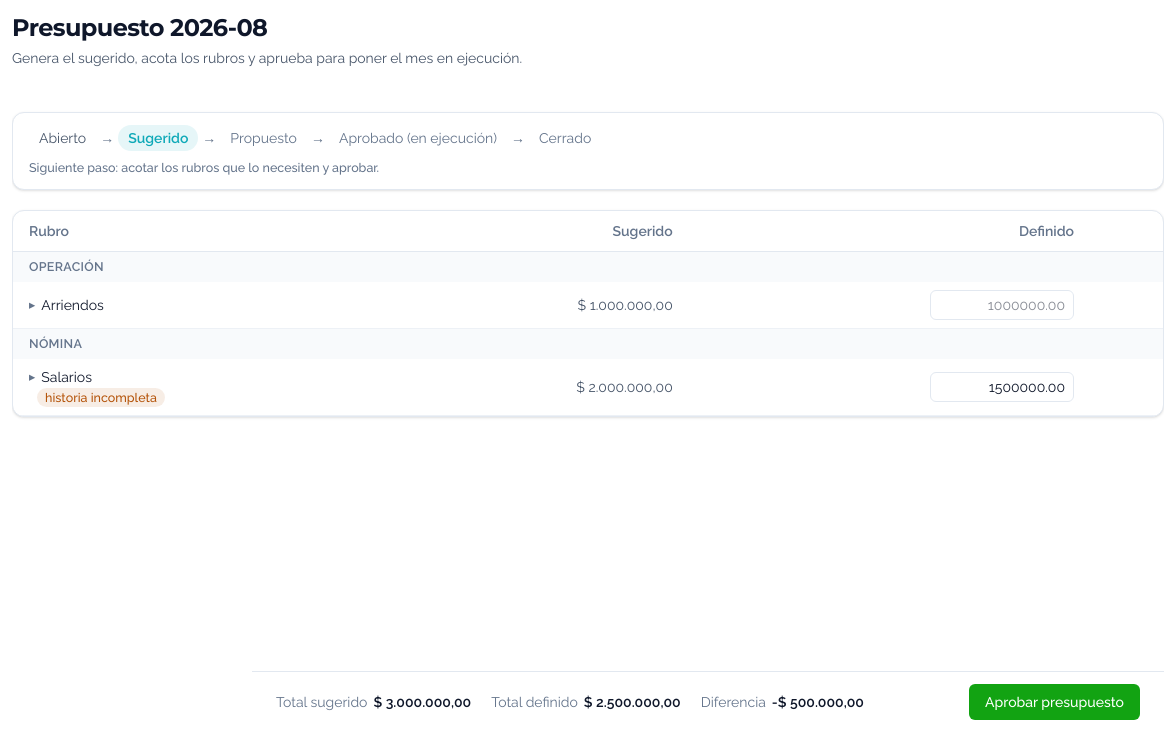
Test: PresupuestoMesPage — acotar (§5.3) › guarda el monto como string, refresca del backend y 'Guardar' se oculta (QA C2)
The width and height of the screenshot is (1164, 732).
Type "1200000" into the field named "Definido Arriendos". click: x=1002, y=305
box: [930,290,1074,320]
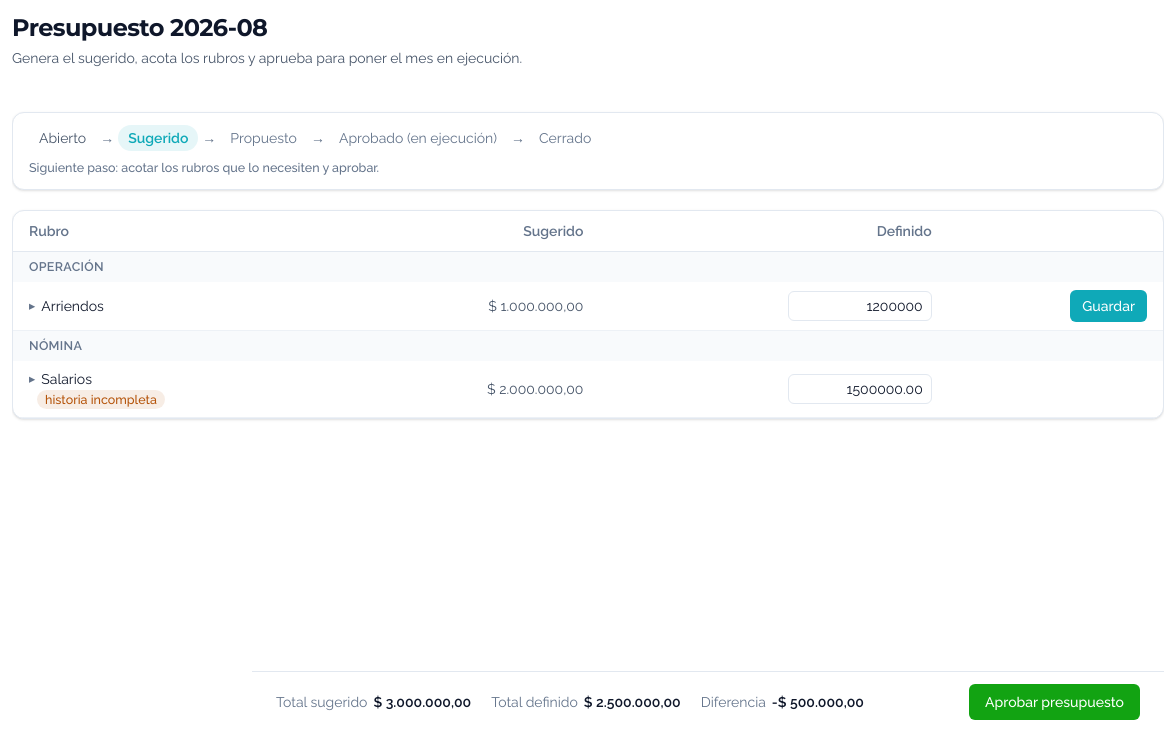
Click the button "Guardar". click: x=1109, y=306
box: [1070,290,1147,322]
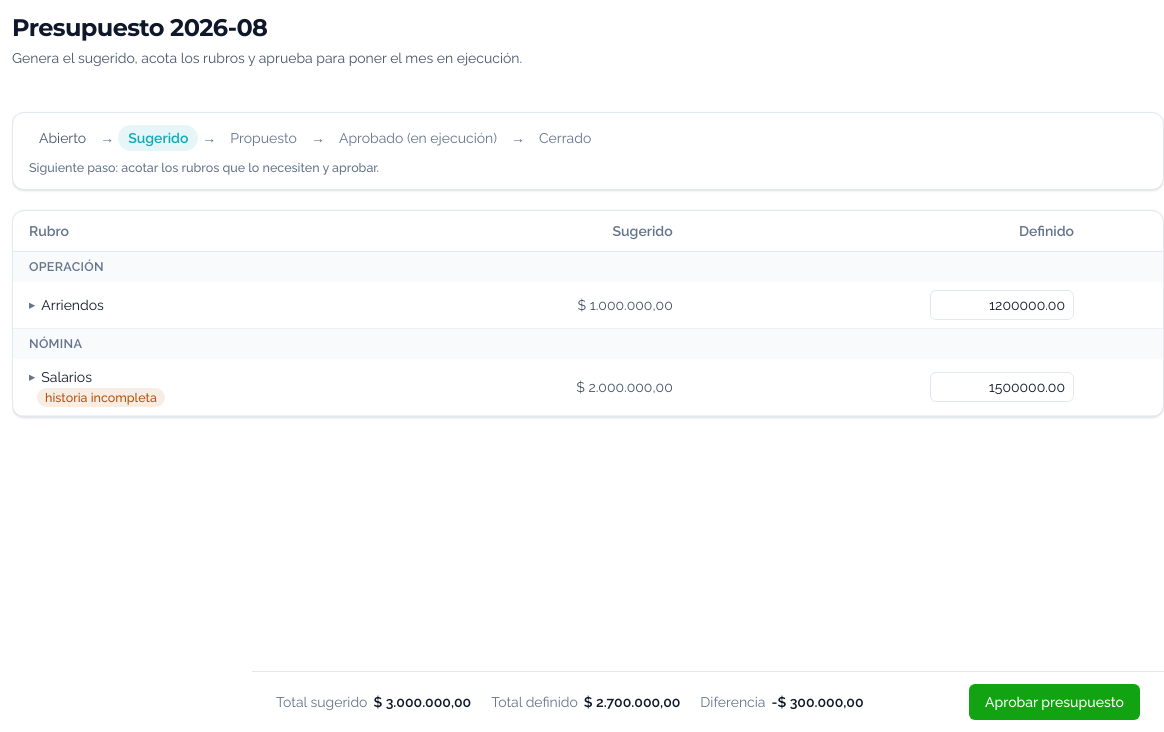
expect the button "Guardar" is gone: met
